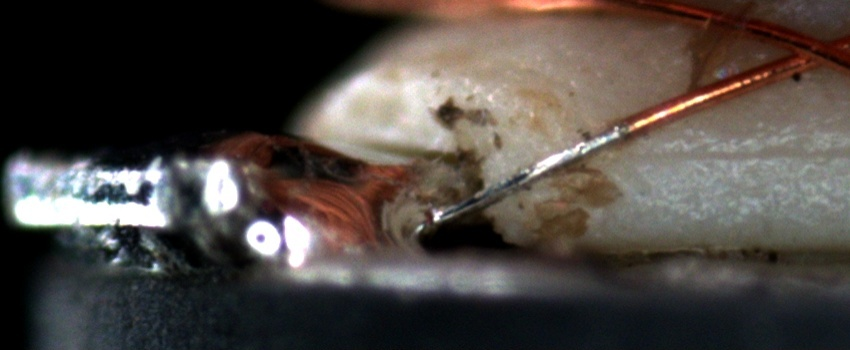CL: (767, 22, 844, 74)
DL: (612, 120, 850, 184)
TS: (431, 125, 629, 224)
